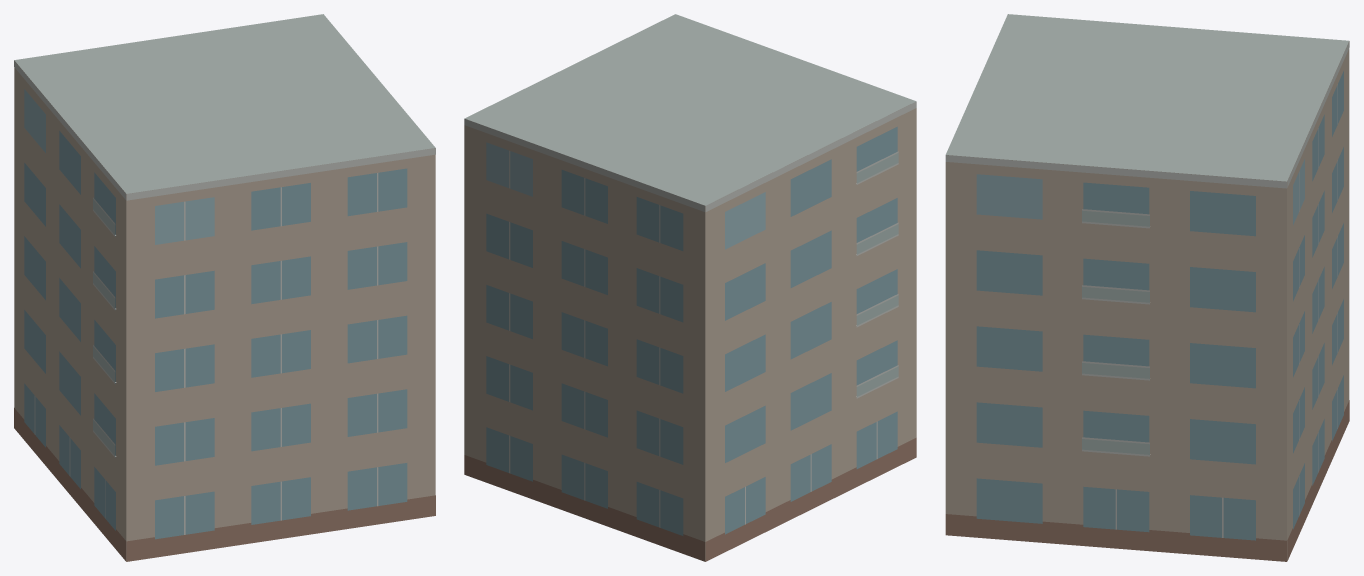
File: survey-upis-32707852.glb
3 renders of one model, left to right at view 1: azimuth 30°, elevation 25°; view 2: azimuth 150°, elevation 25°; view 3: azimuth 270°, elevation 25°, orthographic. The views are drawn at different scales.
Visible parts, largest first — view 1: survey-upis-32707852.tmp; view 2: survey-upis-32707852.tmp; view 3: survey-upis-32707852.tmp.
Boxes of the visible parts, x1,y1,x2,y2 form: survey-upis-32707852.tmp: (14,14,435,561); survey-upis-32707852.tmp: (464,14,916,561); survey-upis-32707852.tmp: (945,14,1349,561).
Size of the model in its own units: 12.58 by 13.3 by 12.81.
